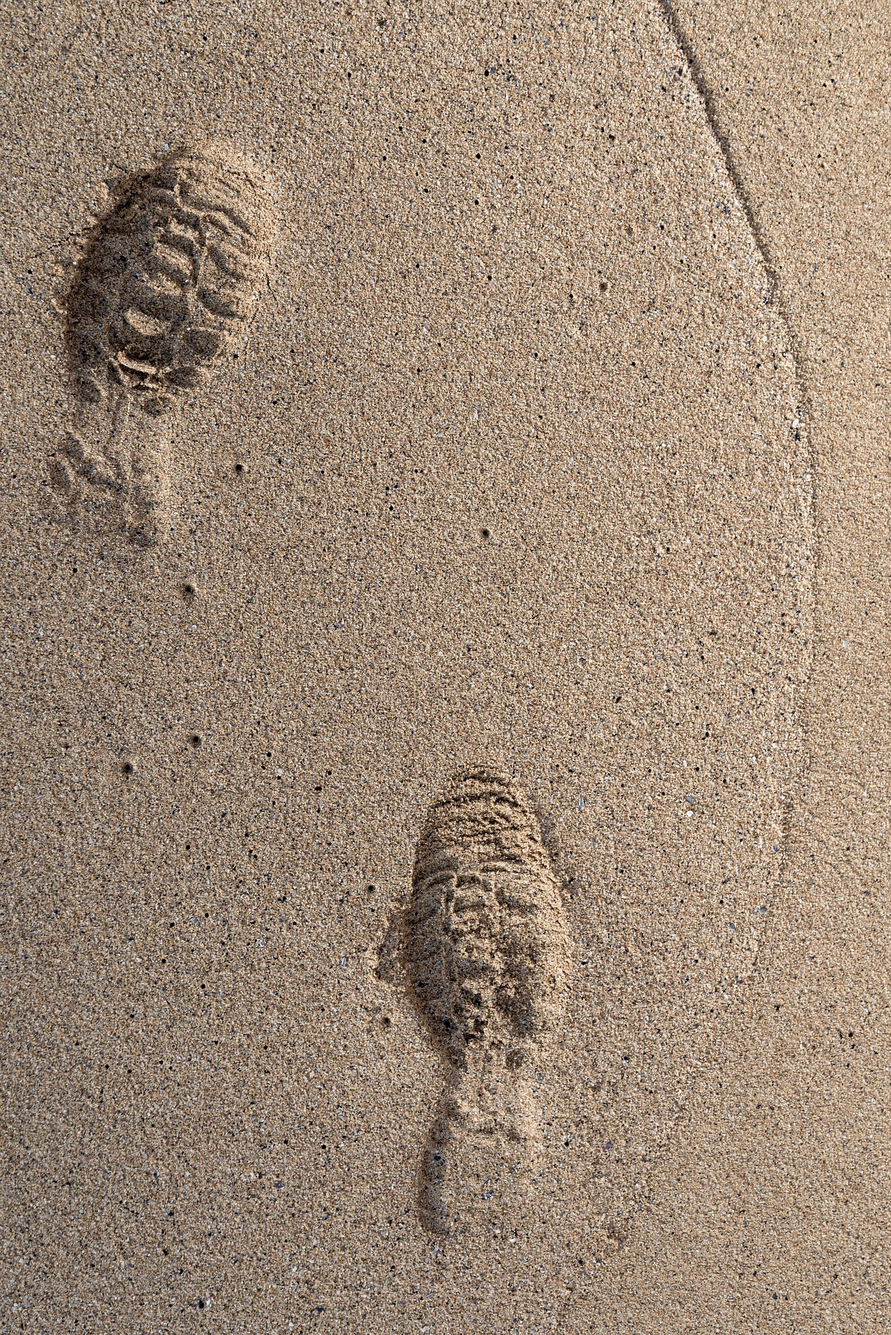human_footprint: (386, 772, 578, 1262), (83, 136, 250, 557)
